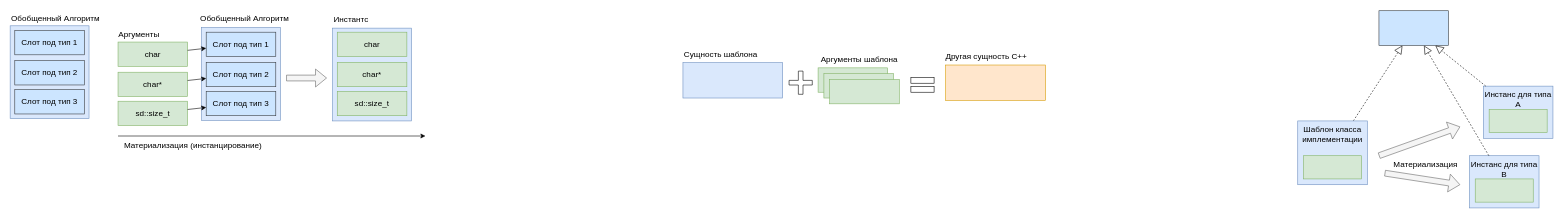
This 1563x218 diagram has some shape labels left out. The centre of each missing label's shape, as x and y in pixels:
"Класс внешнего интерфейса" belongs at point 1413,28.
"Параметр типа" belongs at point 1332,167.
"Тип A" belongs at point 1518,121.
"Тип B" belongs at point 1504,190.
